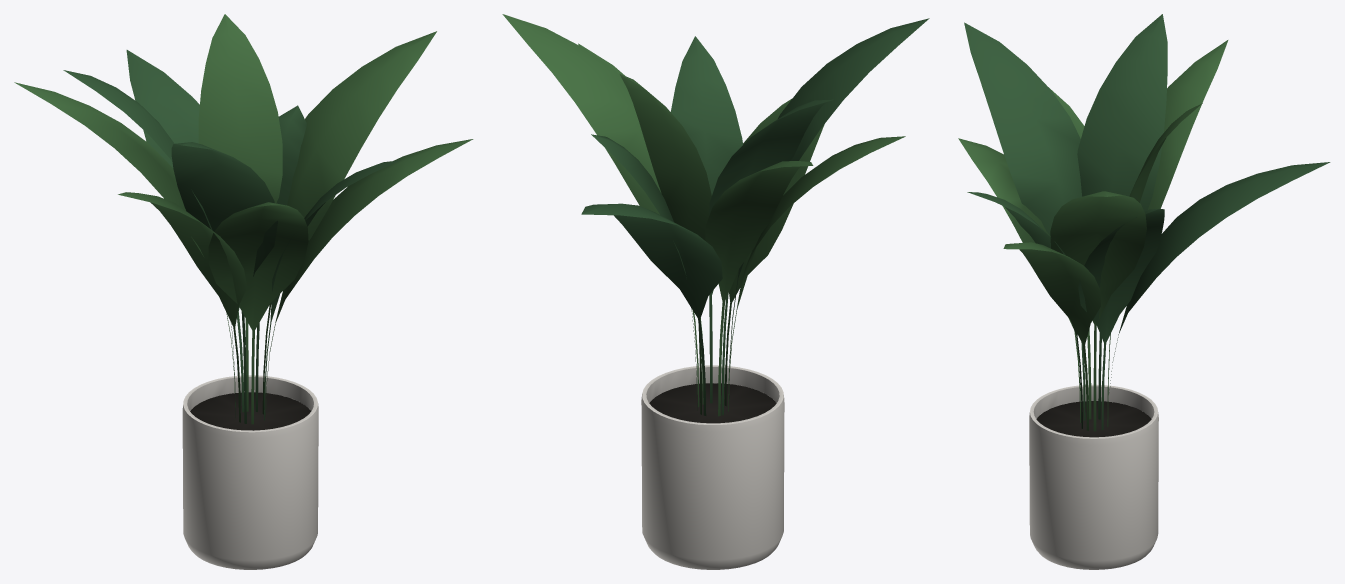
Rendered from bath_plant.gltf.
3 renders of one model, left to right at view 1: azimuth 30°, elevation 25°; view 2: azimuth 150°, elevation 25°; view 3: azimuth 270°, elevation 25°, orthographic. The views are drawn at different scales.
Visible parts, largest first — view 1: BathPlant, BathPlant_Pot, BathPlant_Soil; view 2: BathPlant, BathPlant_Pot, BathPlant_Soil; view 3: BathPlant, BathPlant_Pot, BathPlant_Soil.
Part boxes in pixels (x1,y1,x2,y2): BathPlant: [14, 14, 473, 424]; BathPlant_Pot: [182, 375, 318, 569]; BathPlant_Soil: [190, 392, 310, 430]; BathPlant: [502, 14, 929, 416]; BathPlant_Pot: [641, 365, 784, 569]; BathPlant_Soil: [649, 383, 776, 423]; BathPlant: [958, 14, 1330, 431]; BathPlant_Pot: [1029, 384, 1158, 569]; BathPlant_Soil: [1036, 401, 1151, 437].
Size of the model in its own units: 1.23 by 1.59 by 1.16.
